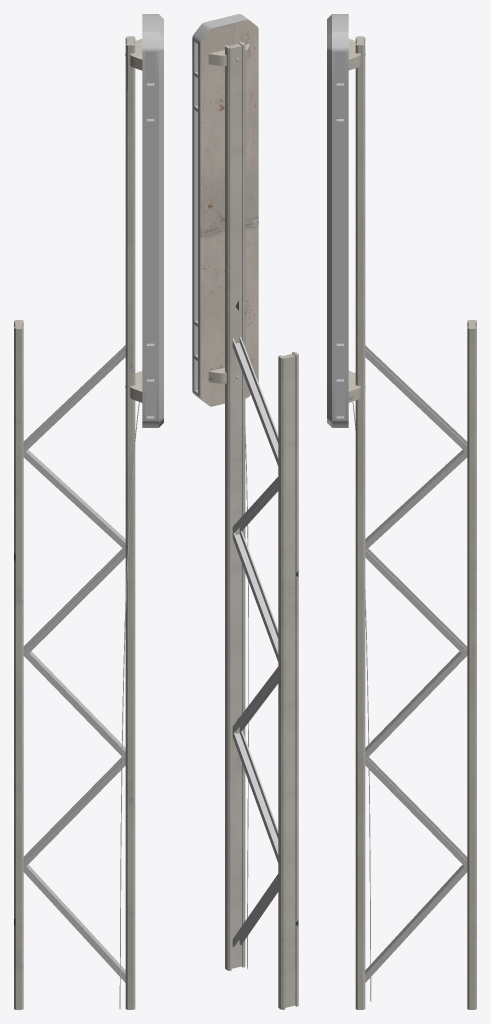
Rendered from KB3D_CBP_Antenna_J.fbx.
3 renders of one model, left to right at view 1: azimuth 90°, elevation 25°; view 2: azimuth 210°, elevation 25°; view 3: azimuth 270°, elevation 25°, orthographic. The views are drawn at different scales.
Parts seen in each view (by area): view 1: KB3D_CBP_Antenna_J_Main; view 2: KB3D_CBP_Antenna_J_Main; view 3: KB3D_CBP_Antenna_J_Main.
Part boxes in pixels (x1,y1,x2,y2): KB3D_CBP_Antenna_J_Main: (14, 14, 163, 1009); KB3D_CBP_Antenna_J_Main: (192, 14, 298, 1009); KB3D_CBP_Antenna_J_Main: (327, 14, 476, 1009).
Size of the model in its own units: 68.9 by 1055 by 146.
